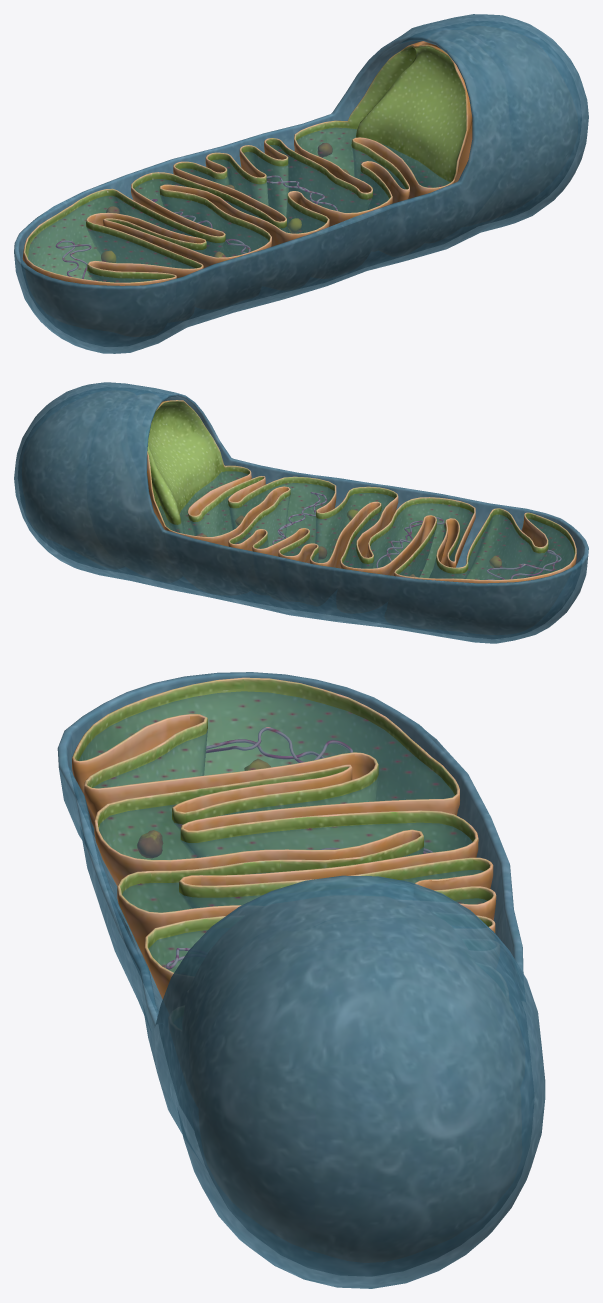
Rendered from mitochondrion.glb.
The picture shows the model from 3 angles, top to bottom: view 1: azimuth 30°, elevation 25°; view 2: azimuth 150°, elevation 25°; view 3: azimuth 270°, elevation 25°; orthographic projection. The views are drawn at different scales.
Visible parts, largest first — view 1: shell, cristae, matrix; view 2: shell, cristae, matrix, dna_01; view 3: shell, cristae, matrix, dna_01.
Boxes of the visible parts, left/top/right/bottom form: shell: left=14, top=14, right=588, bottom=353; cristae: left=22, top=41, right=472, bottom=285; matrix: left=28, top=127, right=450, bottom=282; shell: left=14, top=382, right=588, bottom=643; cristae: left=147, top=400, right=576, bottom=583; matrix: left=159, top=471, right=574, bottom=580; dna_01: left=486, top=549, right=561, bottom=580; shell: left=57, top=672, right=545, bottom=1288; cristae: left=72, top=677, right=496, bottom=998; matrix: left=79, top=691, right=486, bottom=972; dna_01: left=206, top=727, right=352, bottom=762.
Size of the model in its own units: 187 by 62.12 by 75.56.
Materials: 1 (1 with a texture image).
